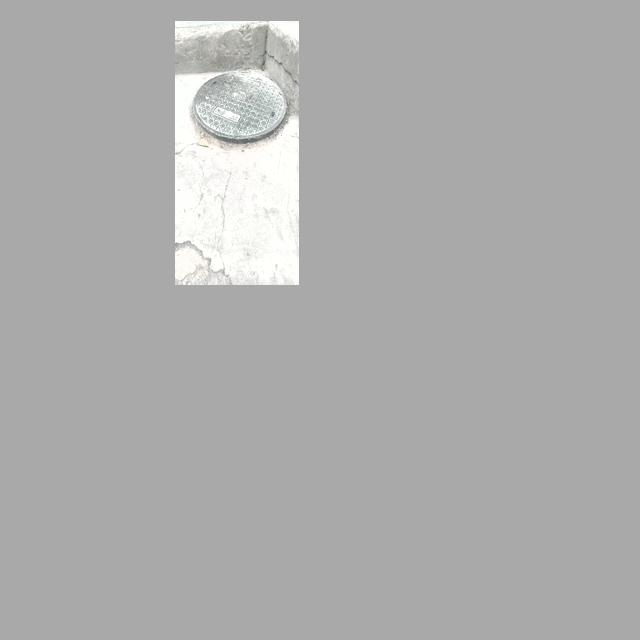good: (192, 71, 287, 144)
